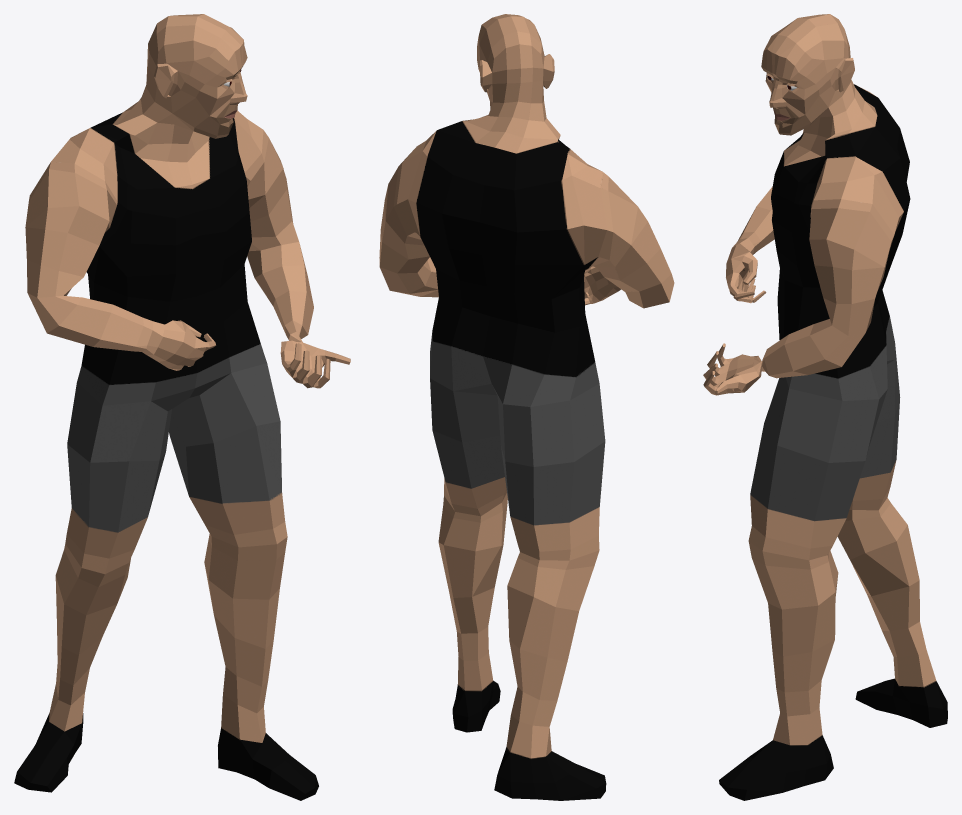
The model's file is PlayerIdle(121).obj.
3 renders of one model, left to right at view 1: azimuth 30°, elevation 25°; view 2: azimuth 150°, elevation 25°; view 3: azimuth 270°, elevation 25°, orthographic. The views are drawn at different scales.
Parts seen in each view (by area): view 1: Plane002; view 2: Plane002; view 3: Plane002.
Part boxes in pixels (<box>): Plane002: <box>14,14,350,800</box>; Plane002: <box>379,14,674,800</box>; Plane002: <box>703,14,947,800</box>.
Size of the model in its own units: 699 by 1800 by 539.
